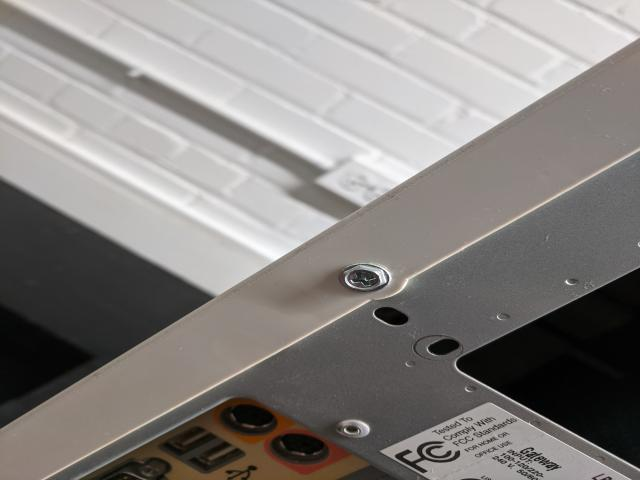CRS: (340, 266, 388, 294)
